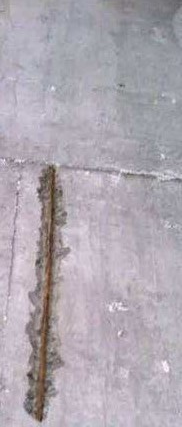Exposed reinforcement: (35, 168, 56, 421)
Spalling: (24, 164, 71, 422)
